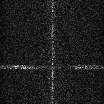wifi: (1, 64, 104, 69)
